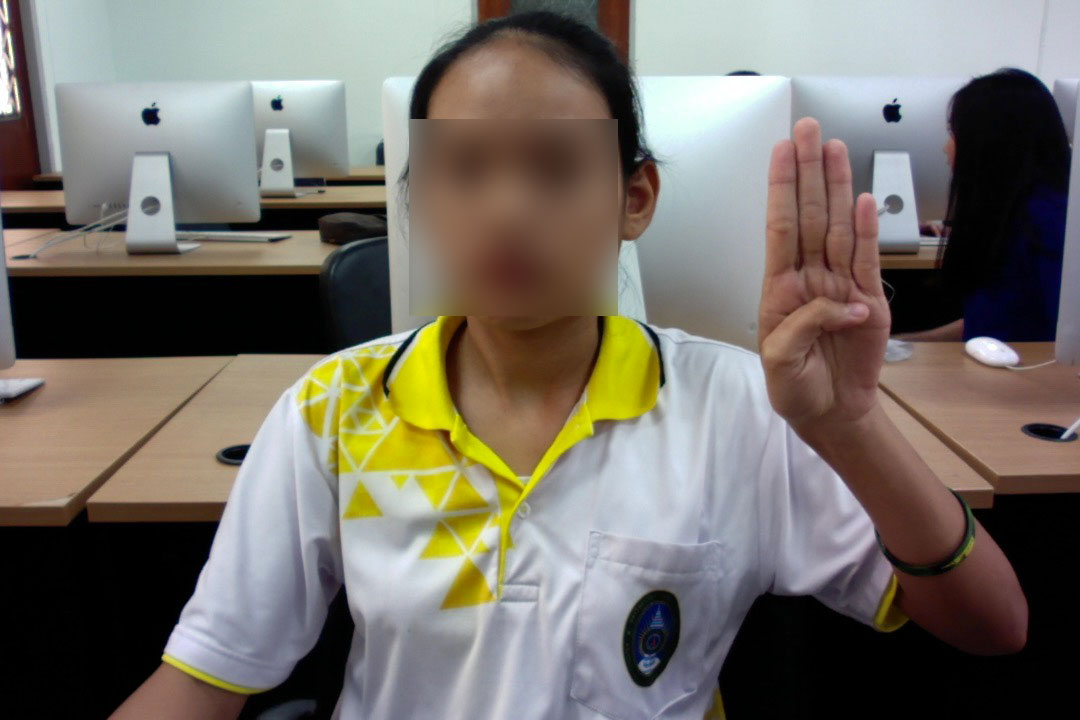bor: (736, 105, 917, 440)
